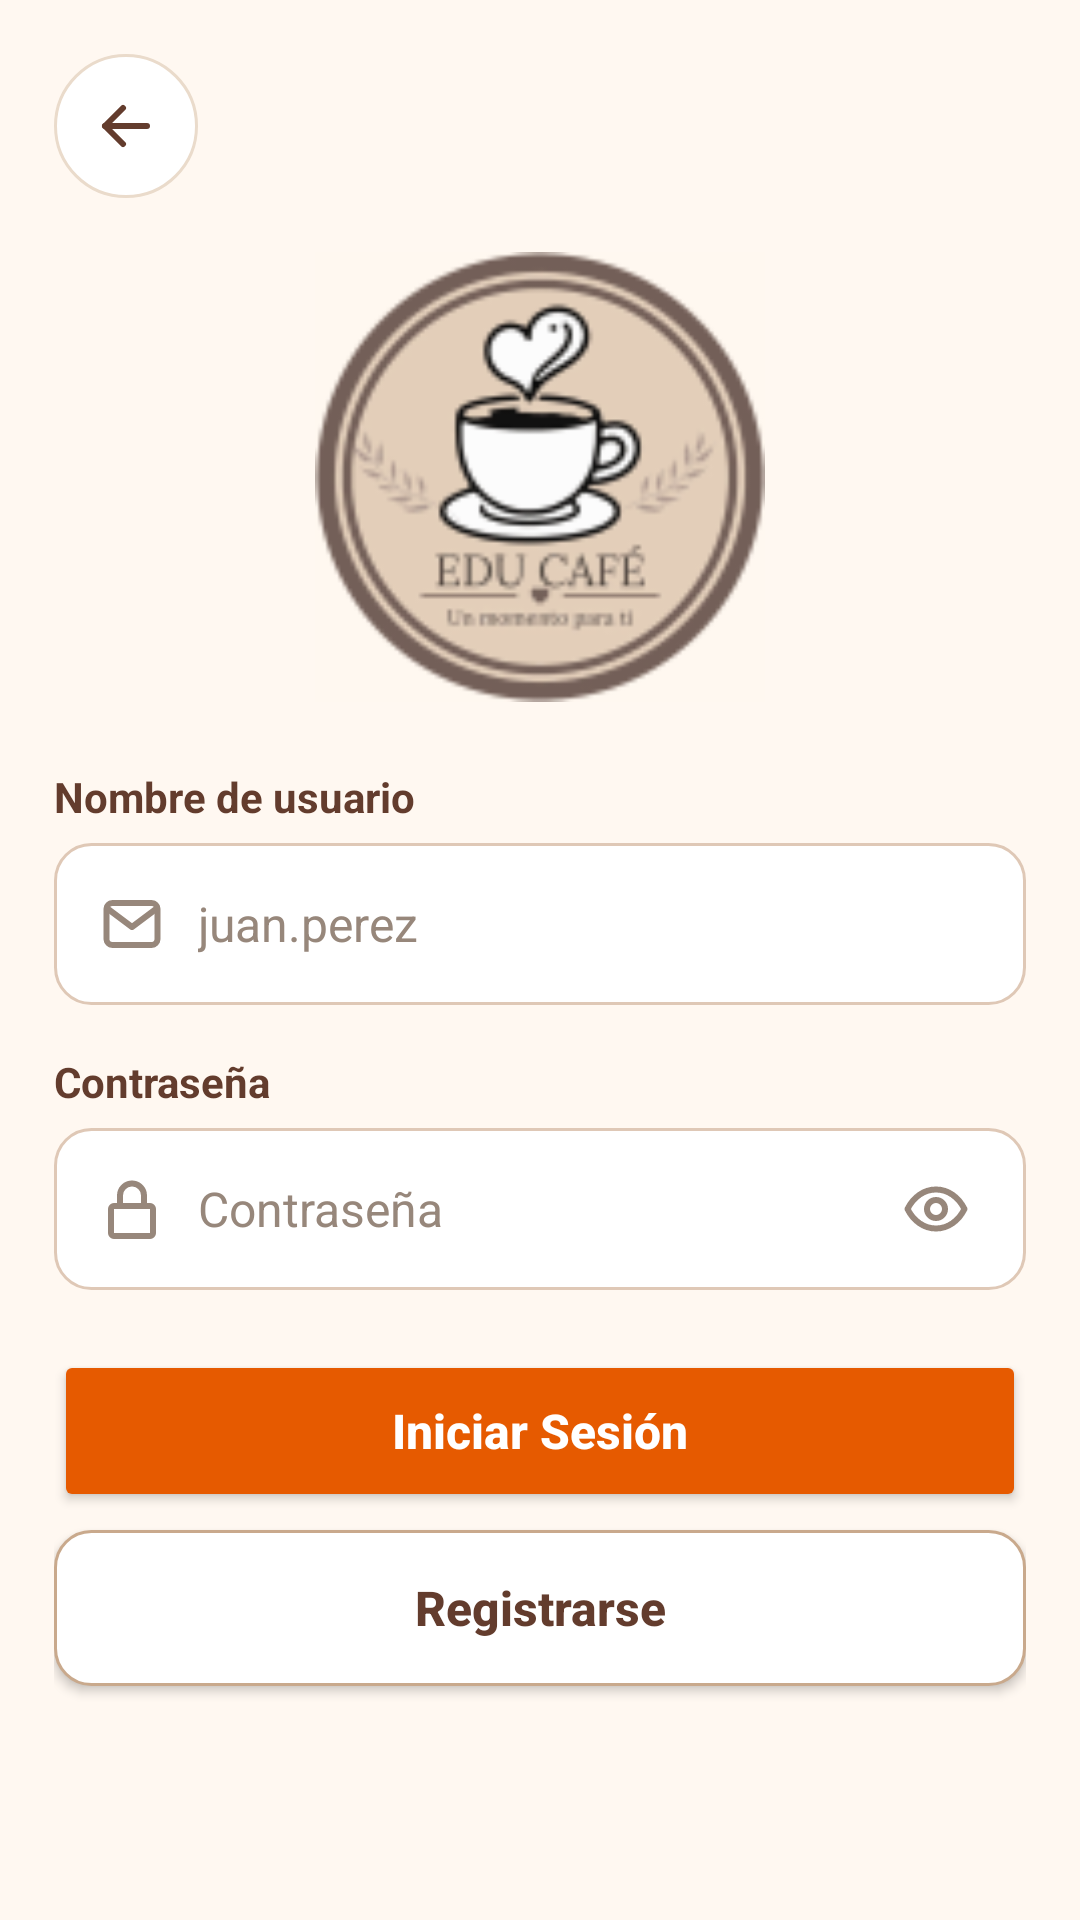

Where icons sit on this 1080px×1920px app screen, as bbox=(x1, y1, x2, y2):
candado: bbox=(108, 1180, 156, 1239)
correo: bbox=(103, 900, 161, 948)
